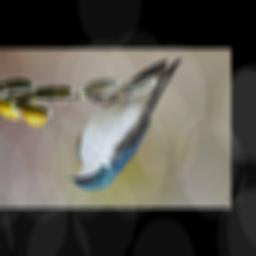Swallow: (65, 56, 183, 190)
